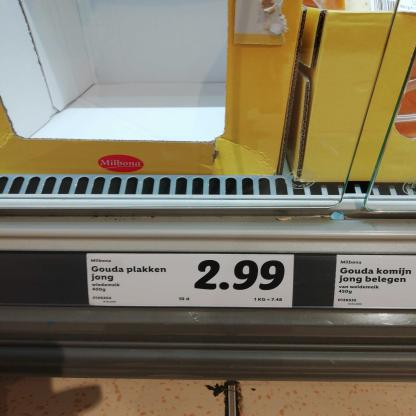prtg: (88, 255, 296, 309), (334, 256, 416, 310)
